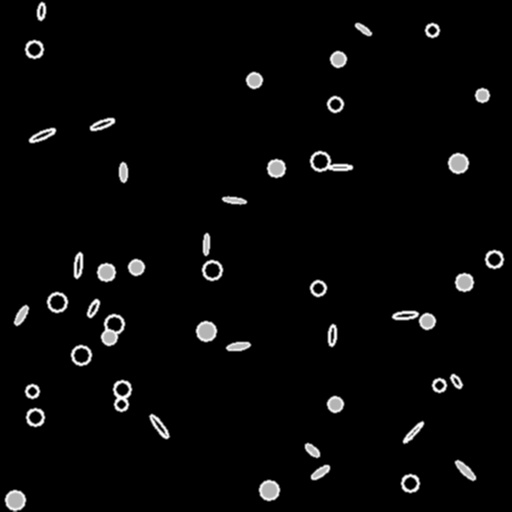pseudomonas: (147, 412, 171, 440), (454, 459, 476, 481), (402, 421, 424, 443), (29, 127, 55, 143), (89, 116, 115, 132), (309, 463, 331, 481), (13, 304, 29, 326), (86, 298, 100, 318), (73, 252, 83, 278), (392, 310, 418, 320), (304, 442, 320, 458), (354, 22, 372, 36), (226, 341, 250, 351), (449, 373, 463, 389), (222, 196, 246, 204), (328, 325, 336, 345), (328, 164, 351, 170), (37, 3, 45, 19), (203, 234, 209, 254), (120, 162, 126, 182)
synechocystis: (449, 154, 467, 172), (311, 152, 329, 170), (48, 293, 66, 311), (105, 315, 123, 333), (203, 261, 221, 279), (6, 491, 24, 509), (260, 481, 278, 499), (197, 322, 215, 340), (72, 346, 90, 364), (486, 251, 502, 267), (456, 274, 472, 290), (402, 475, 418, 491), (98, 264, 114, 280), (268, 160, 284, 176), (114, 381, 130, 397), (27, 409, 43, 425), (26, 41, 42, 57), (331, 52, 345, 66), (247, 73, 261, 87), (328, 397, 342, 411), (328, 97, 342, 111), (420, 314, 434, 328), (129, 260, 143, 274), (311, 281, 325, 295), (102, 330, 116, 344), (26, 385, 38, 397), (433, 379, 445, 391), (476, 89, 488, 101), (115, 398, 127, 410), (426, 24, 438, 36)
